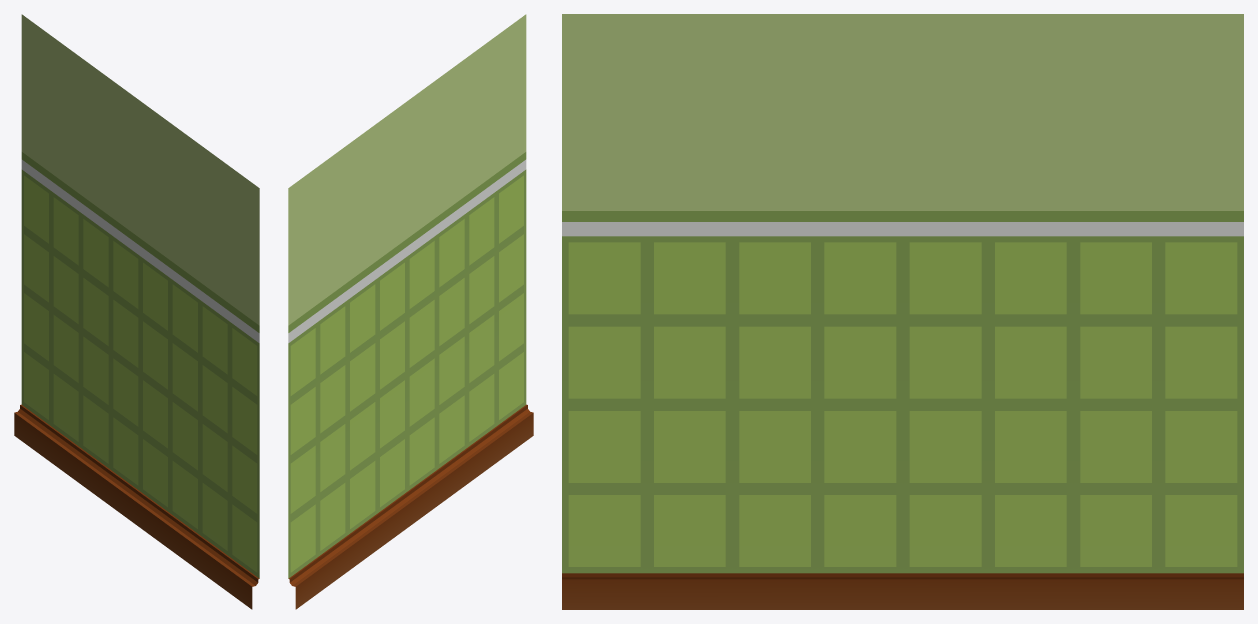
The model's file is ST_ToiletWall.fbx.
3 renders of one model, left to right at view 1: azimuth 30°, elevation 25°; view 2: azimuth 150°, elevation 25°; view 3: azimuth 270°, elevation 25°, orthographic. The views are drawn at different scales.
Parts seen in each view (by area): view 1: ST_ToiletWall; view 2: ST_ToiletWall; view 3: ST_ToiletWall.
Boxes of the visible parts, x1,y1,x2,y2 form: ST_ToiletWall: [14, 14, 259, 609]; ST_ToiletWall: [288, 14, 533, 609]; ST_ToiletWall: [562, 14, 1243, 609].
Size of the model in its own units: 3.55 by 195 by 200.
